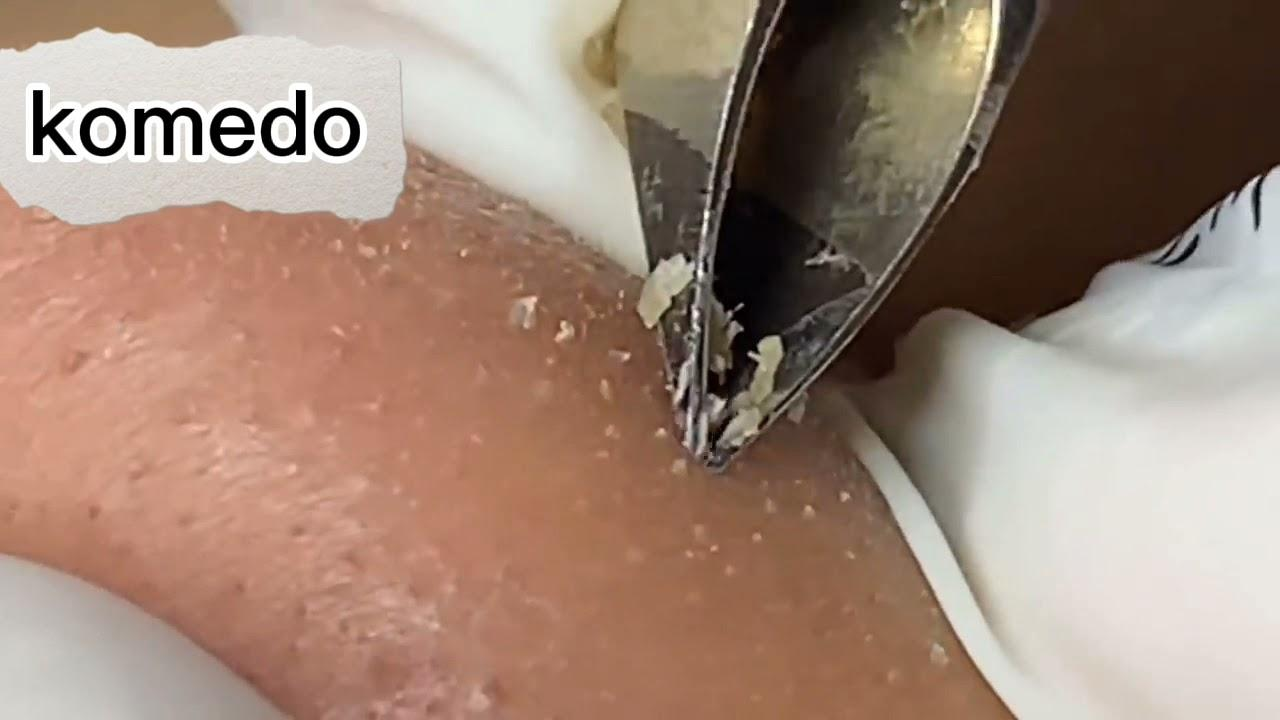Acne: (191, 153, 968, 679)
